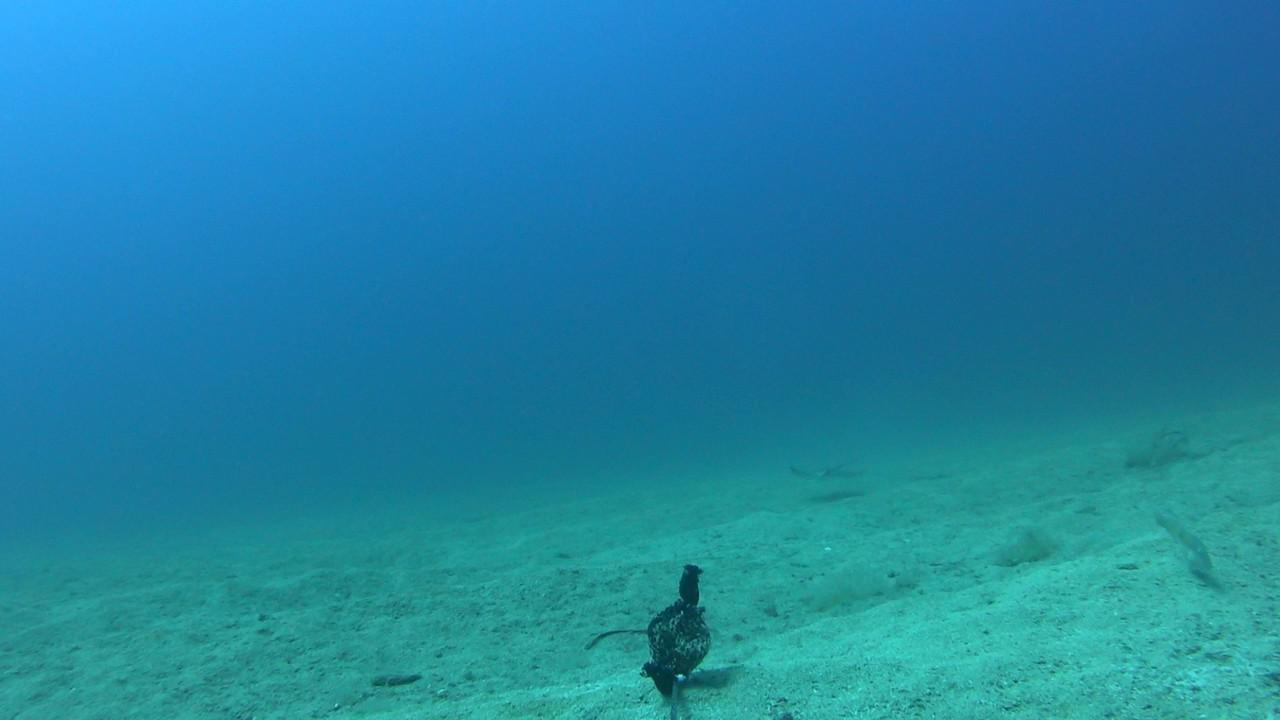myliobatis: (779, 445, 916, 499)
